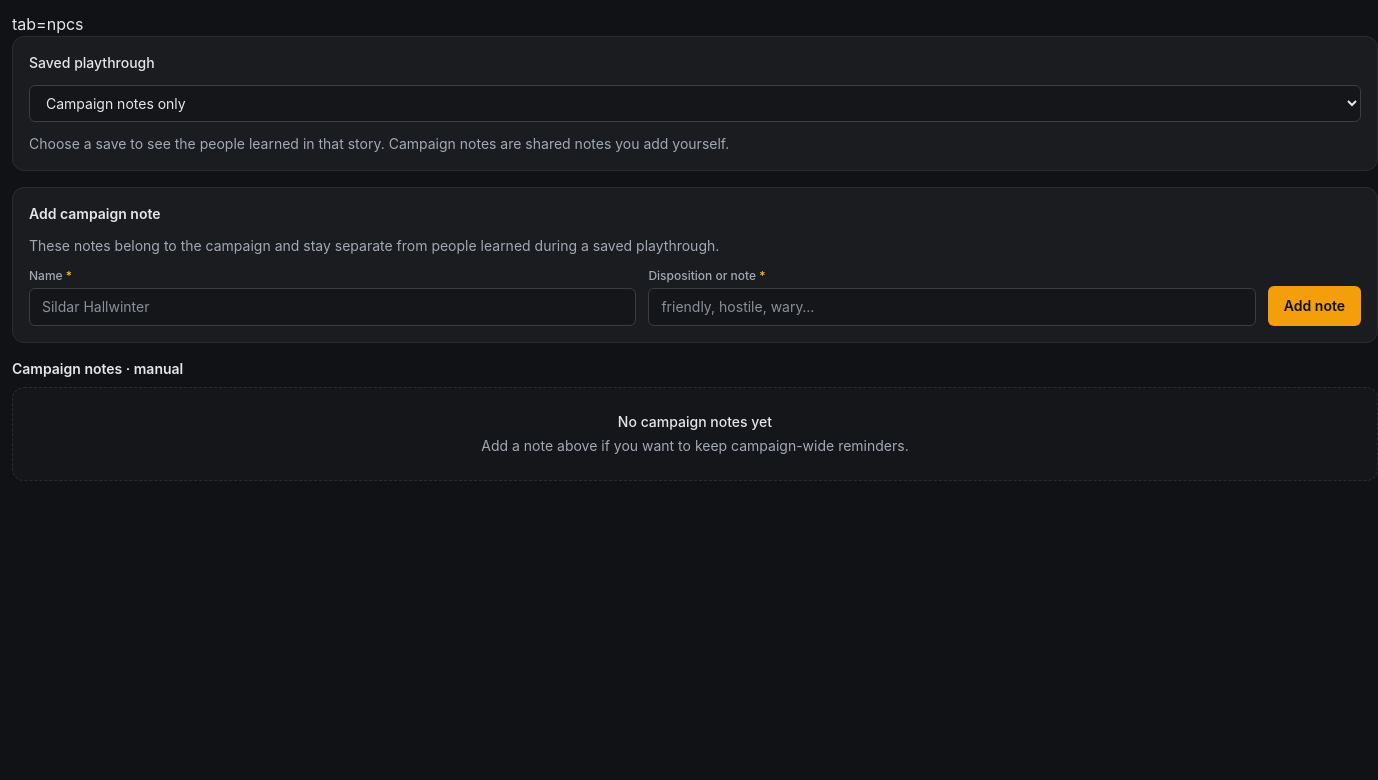
Test: keeps sessions separate when slower responses settle after a selection change
Select "Session 1 · Oct 13, 2026, 10:00 AM" in the dropdown with id "npc-session" at [695, 104], box 29,85 -> 1361,122
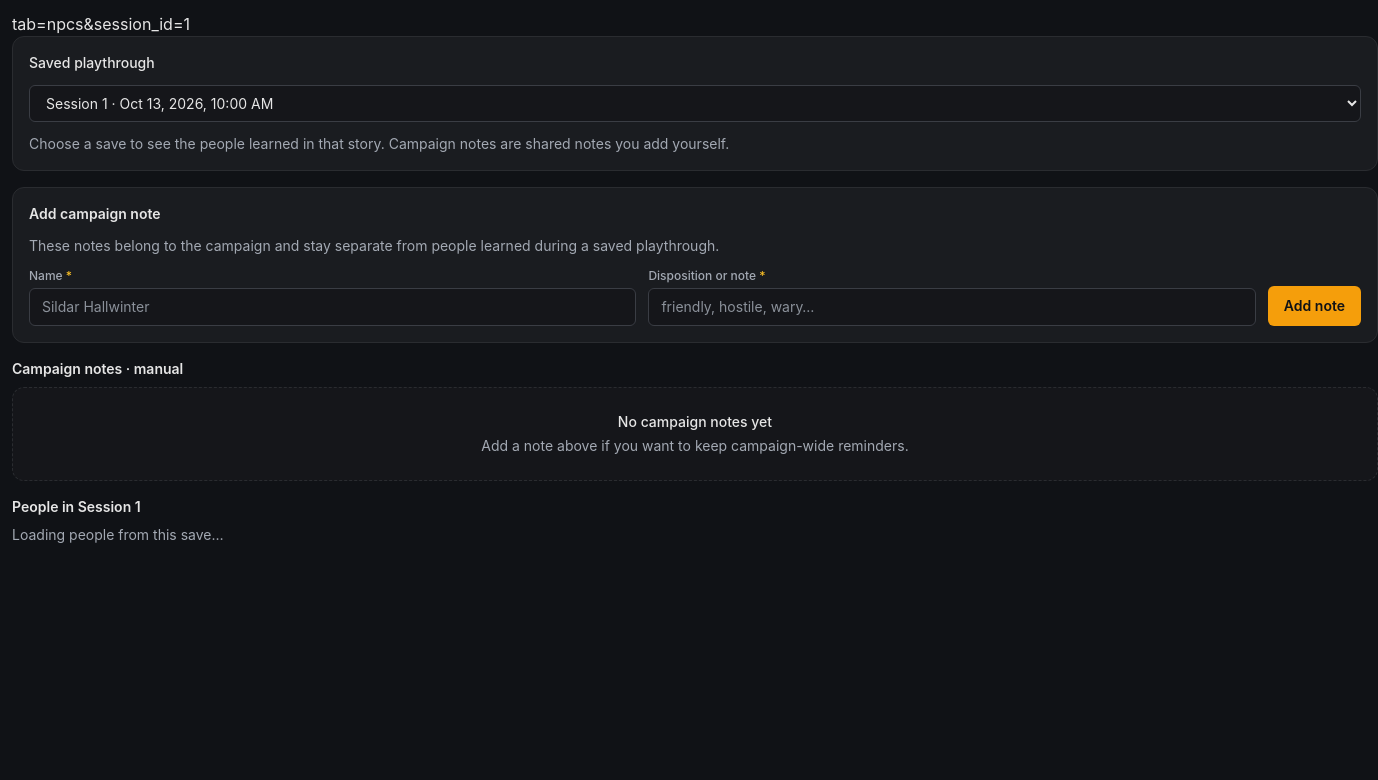
Select "Session 2 · Oct 14, 2026, 10:00 AM" in the dropdown with id "npc-session" at [695, 104], box 29,85 -> 1361,122
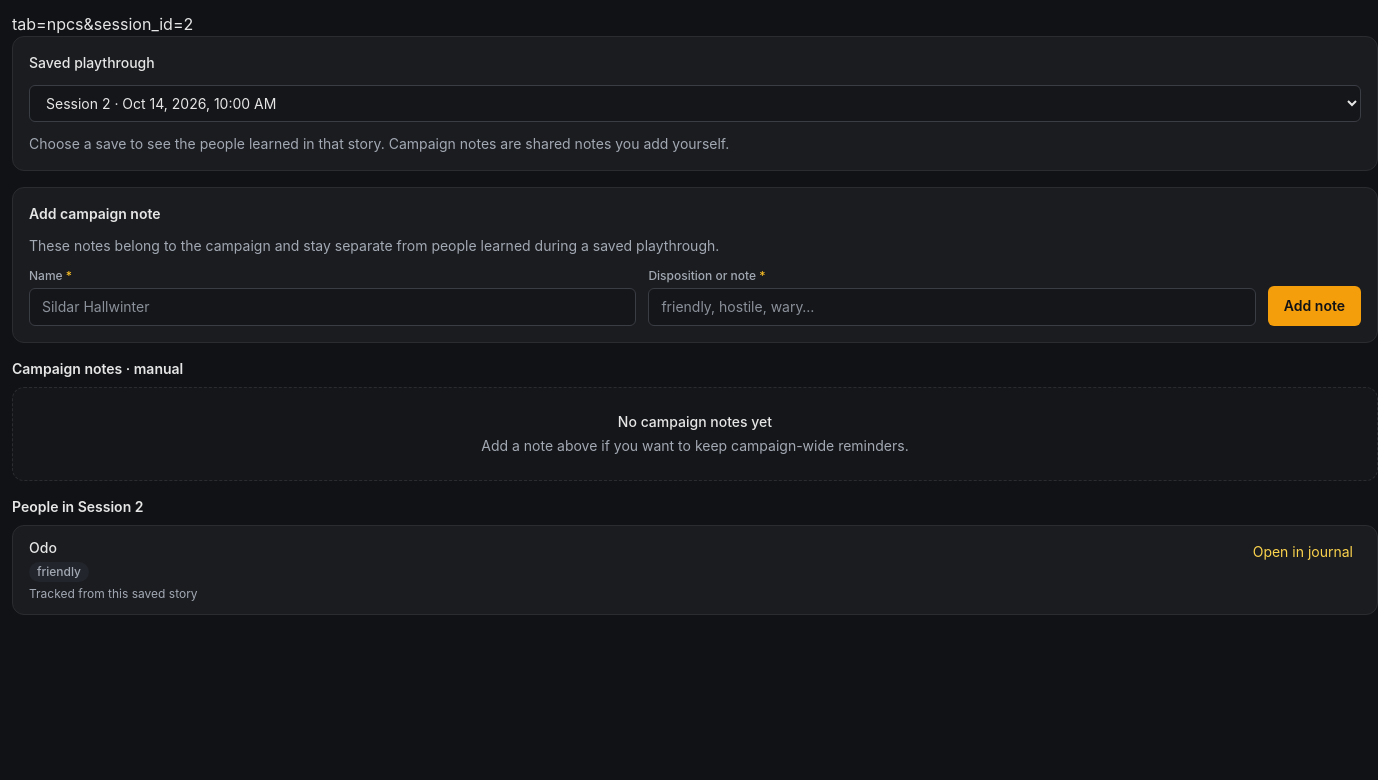
Now the text with test id "query" reads "tab=npcs&session_id=2", box 12,14 -> 193,34
Now the text "Odo" is shown, box 29,539 -> 57,556
